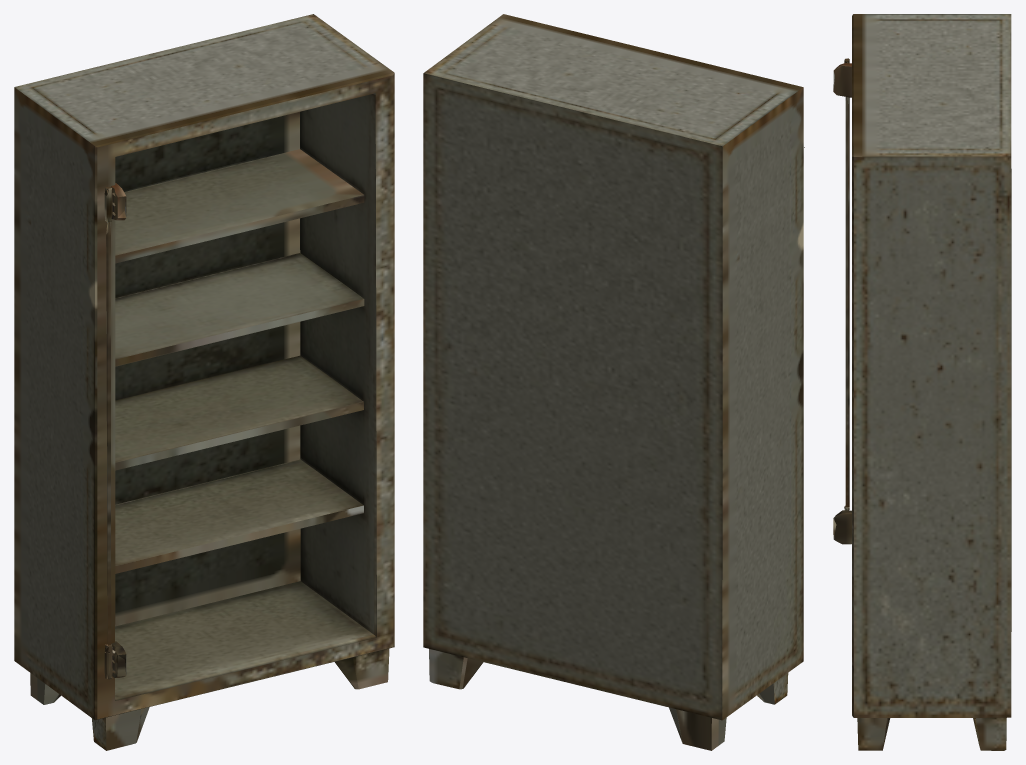
File: E_Cabient.fbx
3 views of the same model, side by side, from view 1: azimuth 30°, elevation 25°; view 2: azimuth 150°, elevation 25°; view 3: azimuth 270°, elevation 25° (orthographic). The views are drawn at different scales.
Visible parts, largest first — view 1: E_Cabient; view 2: E_Cabient; view 3: E_Cabient.
Boxes of the visible parts, bbox=[...] form: E_Cabient: bbox=[14, 14, 394, 750]; E_Cabient: bbox=[423, 14, 804, 750]; E_Cabient: bbox=[833, 14, 1011, 750].
Size of the model in its own units: 109 by 212 by 57.49.
1 material, 1 textured.
